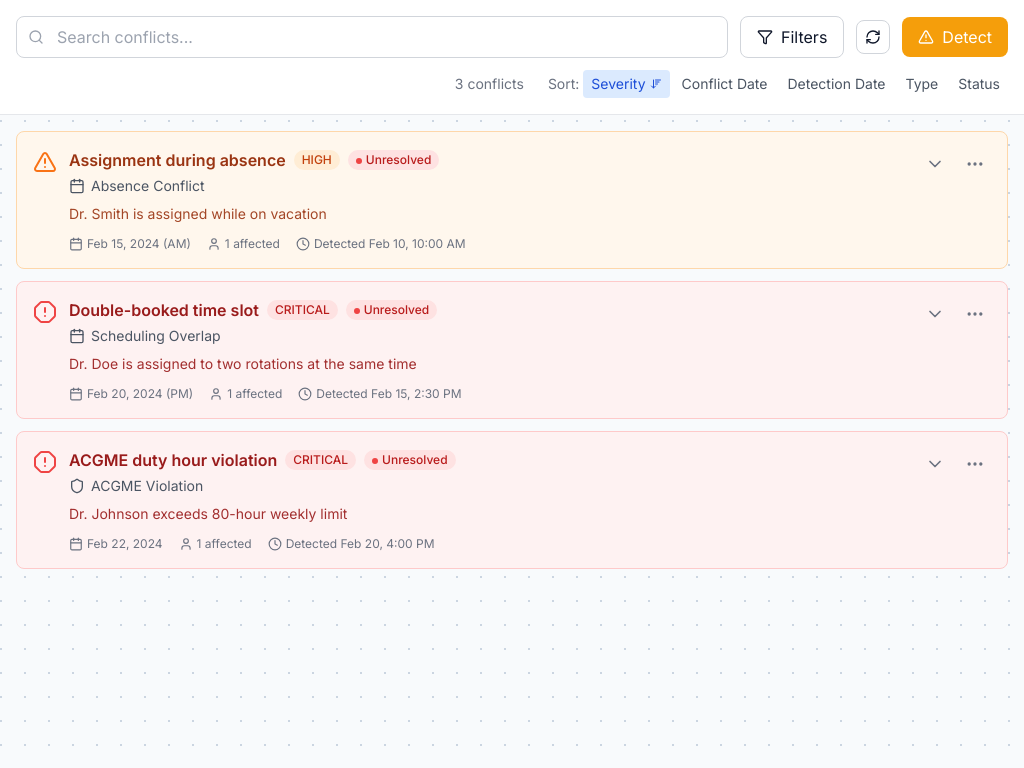
ConflictList › Filter Functionality › should display severity filter options
This screenshot has width=1024, height=768.
What coordinates should you click on to do the following:
click the button "Filters"
I would click on:
 (792, 37)
Its box is [740,16,844,58].
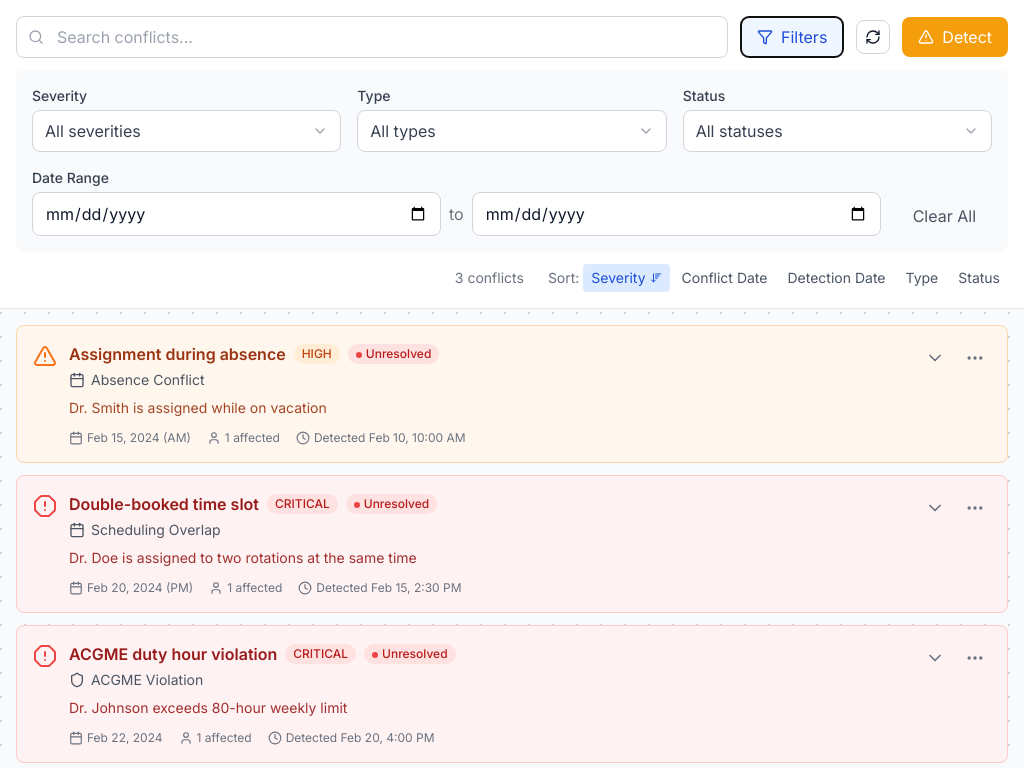
Result: the text "All severities" is shown at [45,119,141,143]
What coordinates should you click on to do the following:
click the button "All severities"
I would click on:
 (93, 131)
Its box is [32,110,341,152].
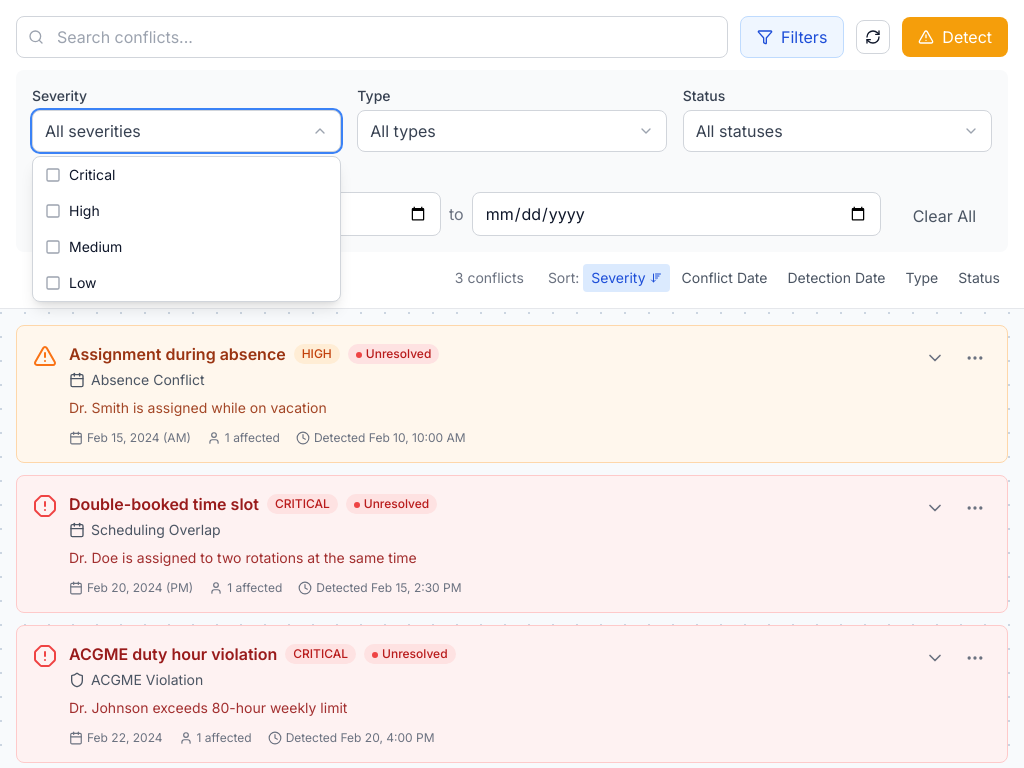
Result: the text "Critical" is shown at [69,165,115,185]
Result: the text "High" is shown at [69,201,100,221]
Result: the text "Medium" is shown at [69,237,122,257]
